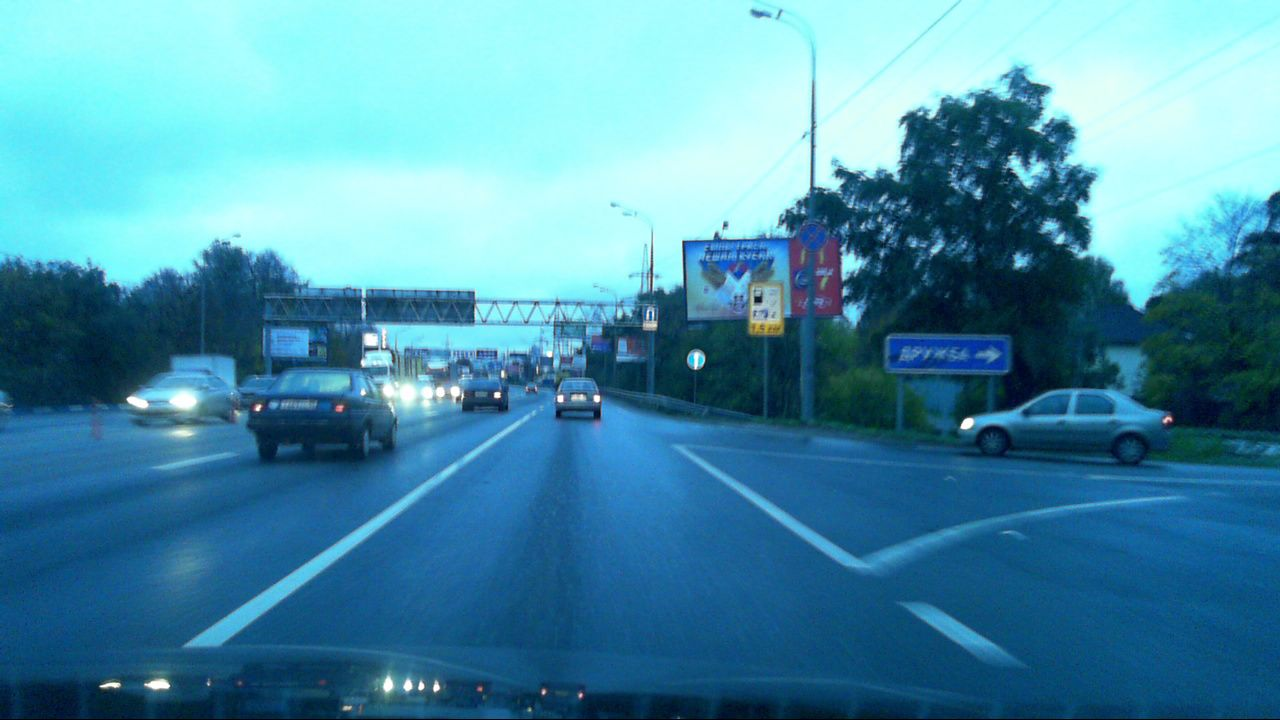No Parking: (798, 222, 828, 250)
U-turn: (643, 305, 658, 321)
